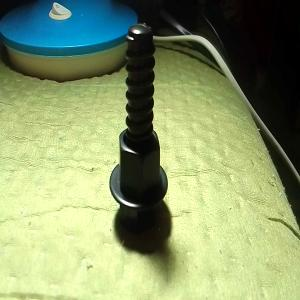parafuso: (110, 22, 167, 234)
